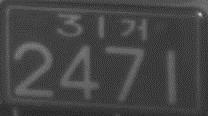1: (154, 49, 189, 105), (90, 14, 114, 38)
2: (13, 40, 55, 98)
3: (56, 13, 83, 38)
4: (59, 43, 99, 100)
7: (103, 44, 144, 102)
거: (118, 17, 148, 40)
